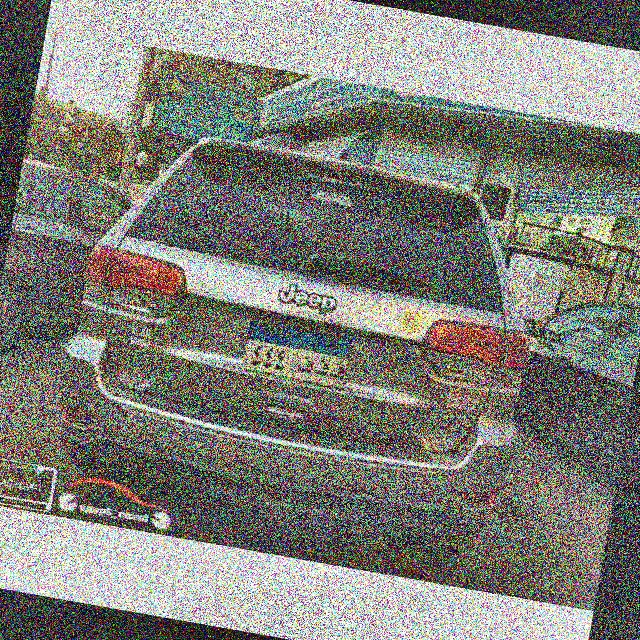License Plate: (234, 314, 359, 396)
